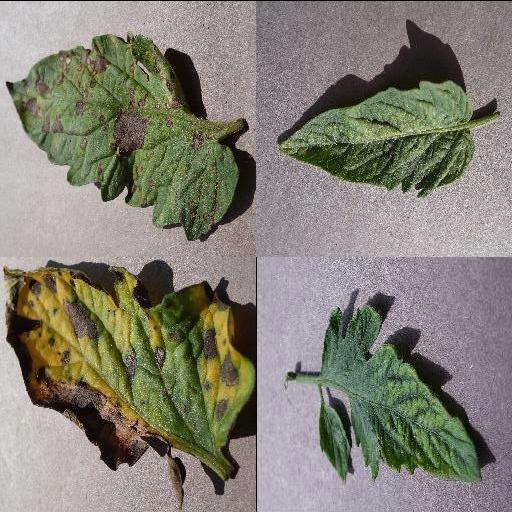Early Blight: (1, 265, 256, 472), (3, 32, 241, 238)
Mosaic Virus: (316, 301, 484, 485)
Spider Mites: (279, 77, 477, 197)
